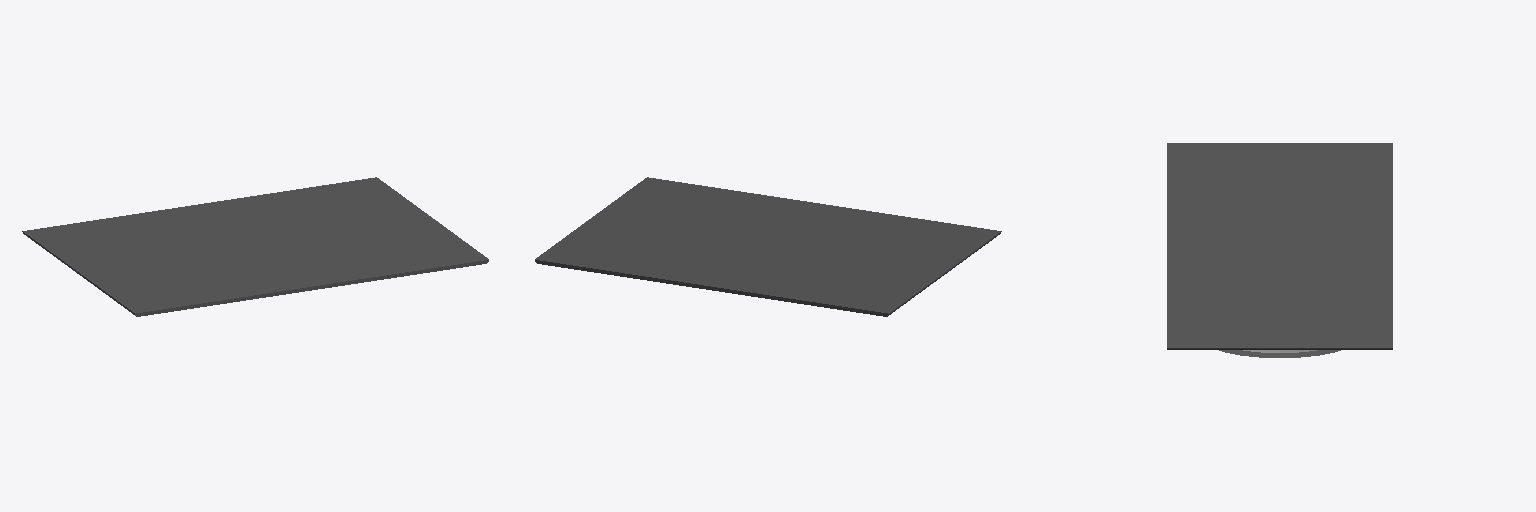
The model's file is dof_rootd_Aa001_r.obj.
The picture shows the model from 3 angles: view 1: azimuth 30°, elevation 25°; view 2: azimuth 150°, elevation 25°; view 3: azimuth 270°, elevation 25°; orthographic projection.
Parts seen in each view (by area): view 1: rootd_Aa001_g13__Geometry_0; view 2: rootd_Aa001_g13__Geometry_0; view 3: rootd_Aa001_g13__Geometry_0, rootd_Aa001_g11__Geometry_0.
Boxes of the visible parts, x1=… form: rootd_Aa001_g13__Geometry_0: x1=22, y1=177, x2=488, y2=316; rootd_Aa001_g13__Geometry_0: x1=535, y1=177, x2=1001, y2=316; rootd_Aa001_g13__Geometry_0: x1=1167, y1=143, x2=1392, y2=349; rootd_Aa001_g11__Geometry_0: x1=1219, y1=350, x2=1340, y2=357.
Bounding box in the file's own units: 0.4231 × 0.0611 × 0.2328.